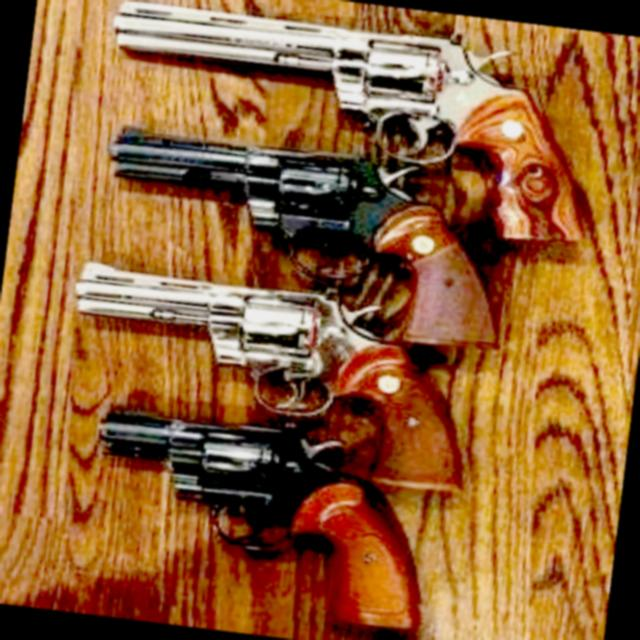revolver: (26, 369, 518, 640)
